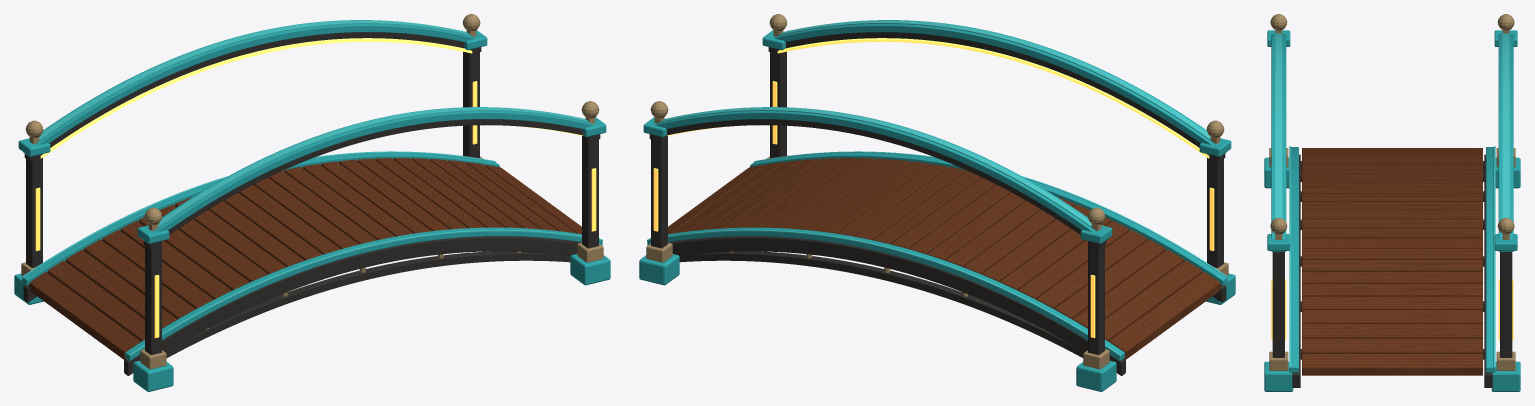
The model's file is concept-v4-garden-bridge-beacon.glb.
3 renders of one model, left to right at view 1: azimuth 30°, elevation 25°; view 2: azimuth 150°, elevation 25°; view 3: azimuth 270°, elevation 25°, orthographic. The views are drawn at different scales.
Parts seen in each view (by area): view 1: left upper charcoal stringer, right turquoise handrail, left turquoise handrail, left lower arched frame, left turquoise deck edge, walnut plank 01, right turquoise deck edge, left black rail core, right black rail core, right rail top highlight, left rail top highlight, walnut plank 02 (+33 smaller); view 2: right upper charcoal stringer, left turquoise handrail, right turquoise handrail, right lower arched frame, right turquoise deck edge, walnut plank 01, left turquoise deck edge, right black rail core, left black rail core, left rail top highlight, right rail top highlight, walnut plank 02 (+33 smaller); view 3: walnut plank 26, walnut plank 25, walnut plank 24, walnut plank 22, walnut plank 23, walnut plank 20, walnut plank 21, walnut plank 18, walnut plank 19, walnut plank 16, walnut plank 17, left turquoise handrail (+34 smaller).
Boxes of the visible parts, left/top/right/bottom form: left upper charcoal stringer: left=124, top=236, right=581, bottom=375; right turquoise handrail: left=23, top=20, right=475, bottom=156; left turquoise handrail: left=142, top=107, right=594, bottom=243; left lower arched frame: left=166, top=251, right=570, bottom=357; left turquoise deck edge: left=125, top=227, right=602, bottom=360; walnut plank 01: left=29, top=272, right=140, bottom=359; right turquoise deck edge: left=22, top=152, right=499, bottom=285; left black rail core: left=143, top=119, right=600, bottom=248; right black rail core: left=24, top=32, right=481, bottom=161; right rail top highlight: left=30, top=20, right=476, bottom=144; left rail top highlight: left=149, top=107, right=595, bottom=231; walnut plank 02: left=47, top=260, right=144, bottom=341; right upper charcoal stringer: left=668, top=236, right=1125, bottom=375; left turquoise handrail: left=774, top=20, right=1226, bottom=156; right turquoise handrail: left=655, top=107, right=1107, bottom=243; right lower arched frame: left=679, top=251, right=1083, bottom=357; right turquoise deck edge: left=647, top=227, right=1124, bottom=360; walnut plank 01: left=1109, top=272, right=1220, bottom=359; left turquoise deck edge: left=750, top=152, right=1227, bottom=285; right black rail core: left=649, top=119, right=1106, bottom=248; left black rail core: left=768, top=32, right=1225, bottom=161; left rail top highlight: left=773, top=20, right=1219, bottom=144; right rail top highlight: left=654, top=107, right=1100, bottom=231; walnut plank 02: left=1105, top=260, right=1202, bottom=341; walnut plank 26: left=1302, top=354, right=1482, bottom=375; walnut plank 25: left=1302, top=338, right=1482, bottom=353; walnut plank 24: left=1302, top=324, right=1482, bottom=338; walnut plank 22: left=1302, top=296, right=1482, bottom=309; walnut plank 23: left=1302, top=310, right=1482, bottom=323; walnut plank 20: left=1302, top=271, right=1482, bottom=283; walnut plank 21: left=1302, top=284, right=1482, bottom=296; walnut plank 18: left=1302, top=248, right=1482, bottom=259; walnut plank 19: left=1302, top=260, right=1482, bottom=271; walnut plank 16: left=1302, top=228, right=1482, bottom=238; walnut plank 17: left=1302, top=238, right=1482, bottom=248; left turquoise handrail: left=1271, top=34, right=1286, bottom=251.
Bounding box in the file's own units: 3.4 × 1.43 × 1.67.
7 materials, 1 textured.
